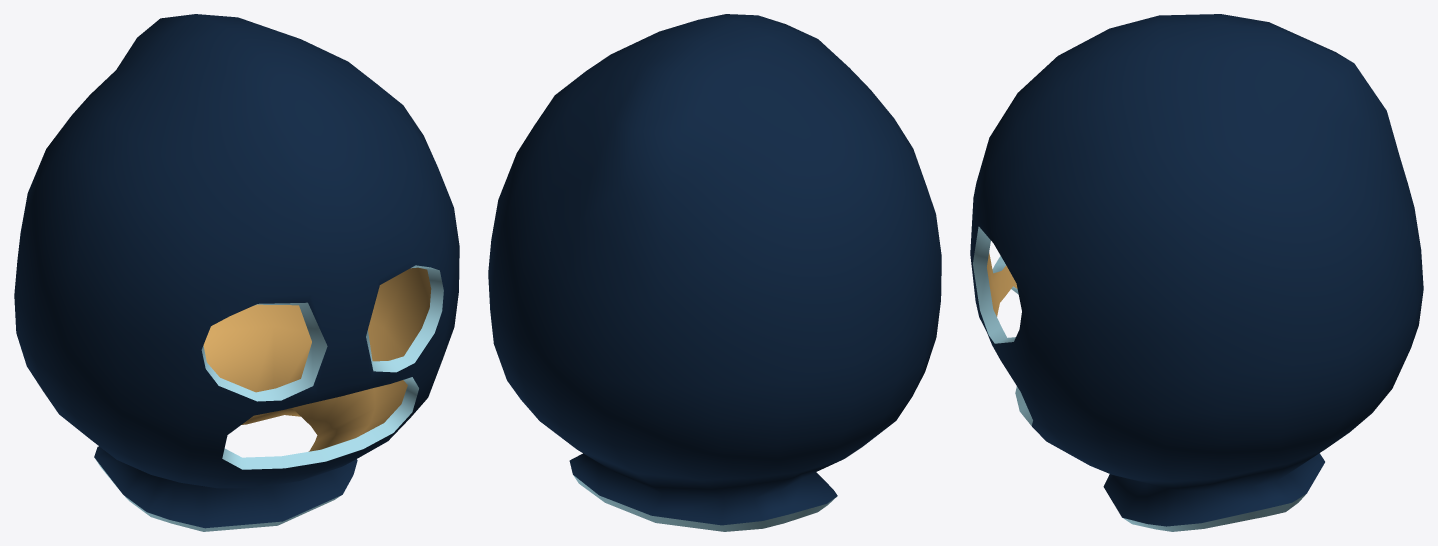
The model's file is Balaclava.fbx.
3 views of the same model, side by side, from view 1: azimuth 30°, elevation 25°; view 2: azimuth 150°, elevation 25°; view 3: azimuth 270°, elevation 25° (orthographic). The views are drawn at different scales.
Parts seen in each view (by area): view 1: Balaclava; view 2: Balaclava; view 3: Balaclava.
Boxes of the visible parts, <box> form: Balaclava: <box>14,14,459,531</box>; Balaclava: <box>488,14,941,531</box>; Balaclava: <box>970,14,1423,531</box>.
Bounding box in the file's own units: 0.649 × 0.739 × 0.6447.
